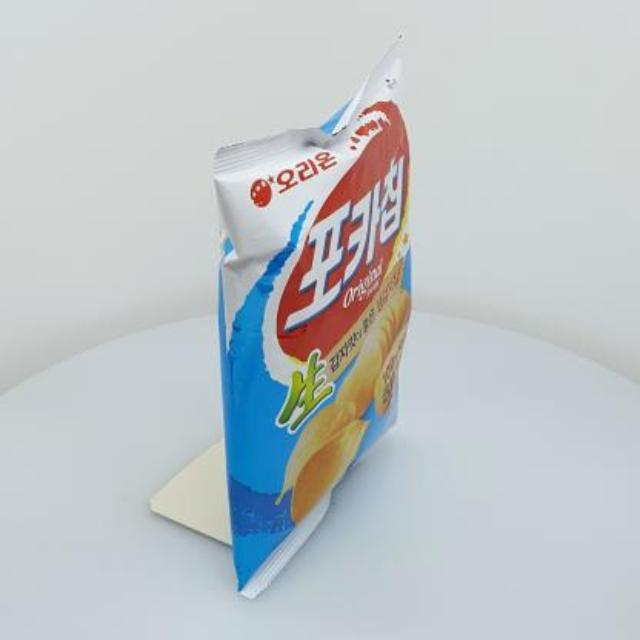snack_bag: (132, 7, 476, 616)
